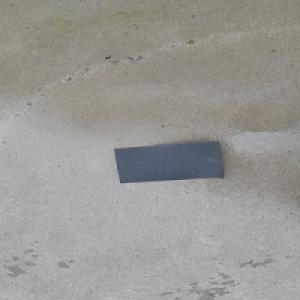PaintChip: (113, 140, 225, 183)
